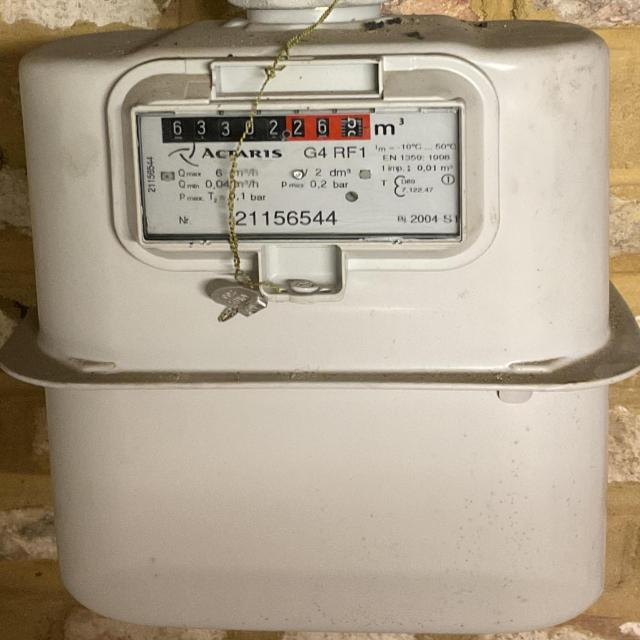gaz_meter: (132, 108, 461, 240)
indication: (161, 108, 372, 146)
